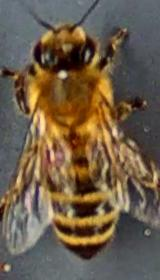varroa_mite: (42, 143, 70, 166)
